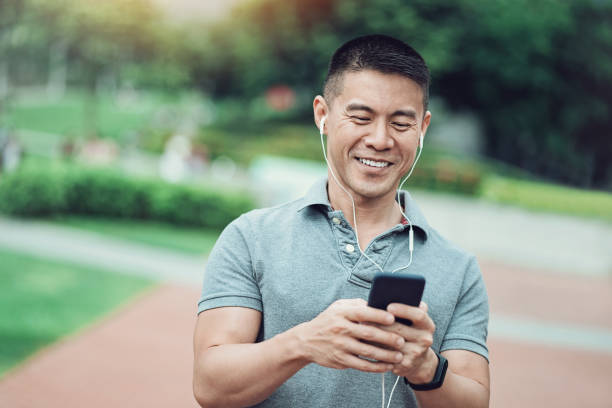person: (311, 33, 432, 201)
